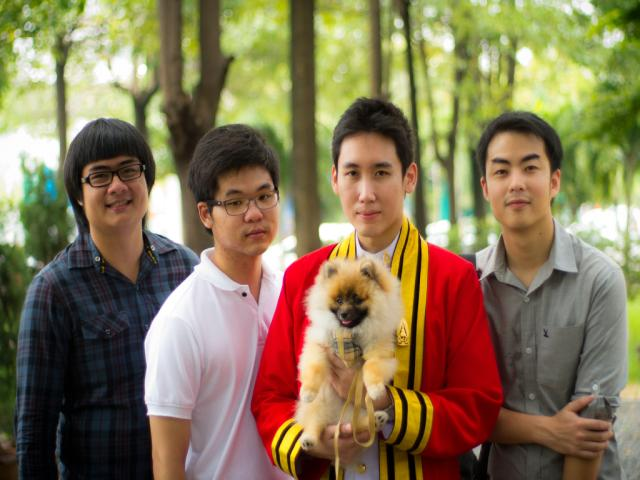Dog: (294, 254, 402, 451)
